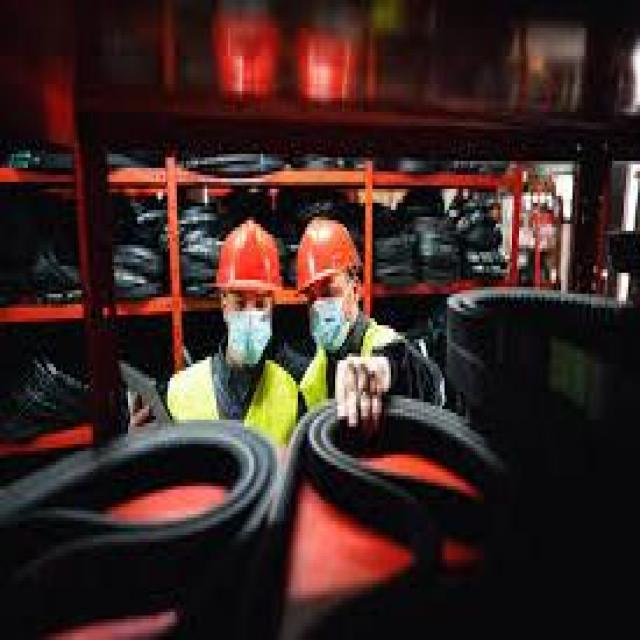Reflective-Jacket: (163, 357, 305, 479)
Safety-Helmet: (204, 214, 288, 312), (291, 206, 363, 304)
